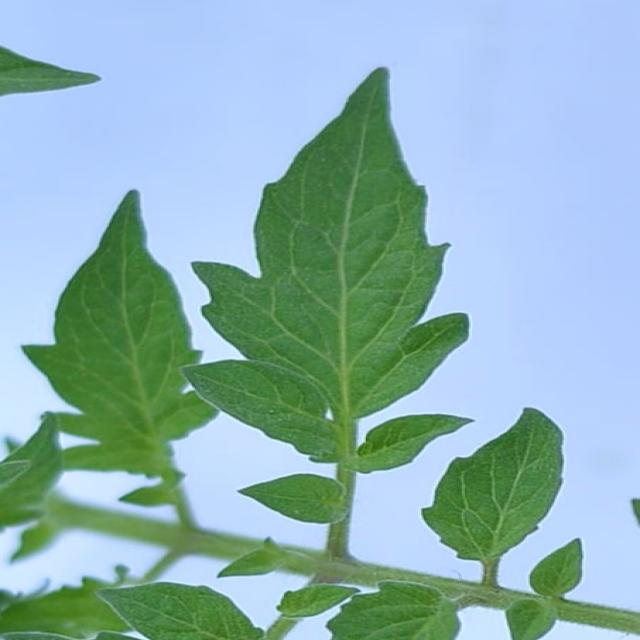healthy: (179, 57, 472, 485), (17, 182, 230, 517), (413, 404, 579, 570)
